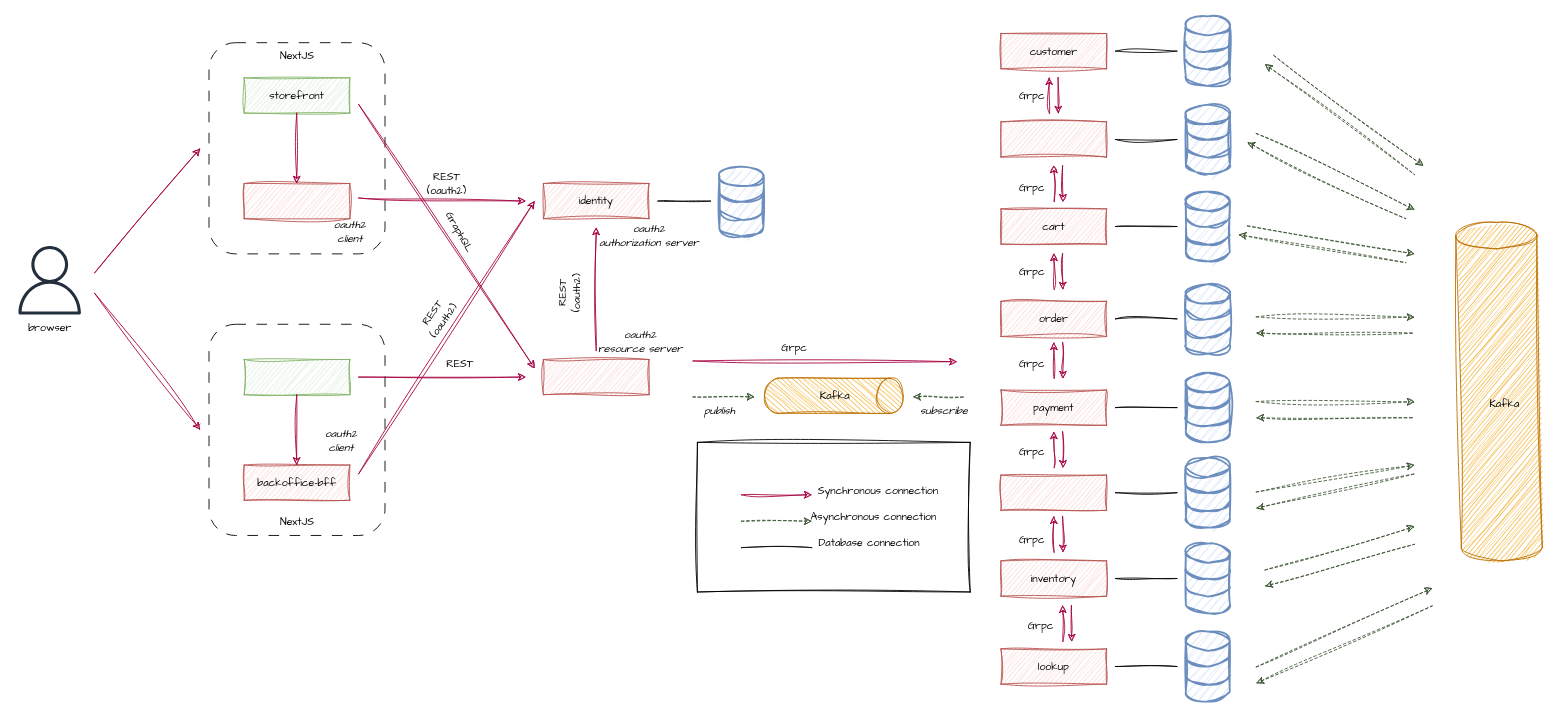
Image size: 1558x717. Some labels were removed from this diagram. Here are the shapes that lost their labels. From the top down, the centre of each, then its label:
At pixel 1053 139: "product".
At pixel 296 201: "storefront -bff".
At pixel 296 377: "backoffice".
At pixel 596 377: "gateway".
At pixel 1053 492: "feedback".
